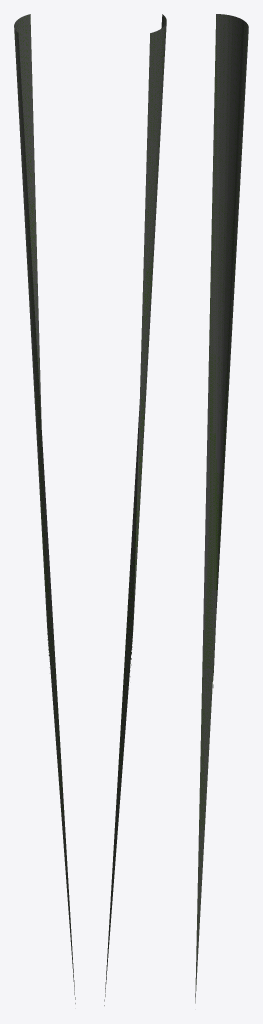
Rendered from original-8.obj.
The picture shows the model from 3 angles, left to right: view 1: azimuth 30°, elevation 25°; view 2: azimuth 210°, elevation 25°; view 3: azimuth 270°, elevation 25°; orthographic projection.
Visible parts, largest first — view 1: #ID485; view 2: #ID485; view 3: #ID485.
Boxes of the visible parts, left/top/right/bottom form: #ID485: left=14, top=14, right=75, bottom=1003; #ID485: left=104, top=14, right=166, bottom=1005; #ID485: left=195, top=14, right=248, bottom=1003.
Size of the model in its own units: 0.0761 by 1.52 by 0.0761.
